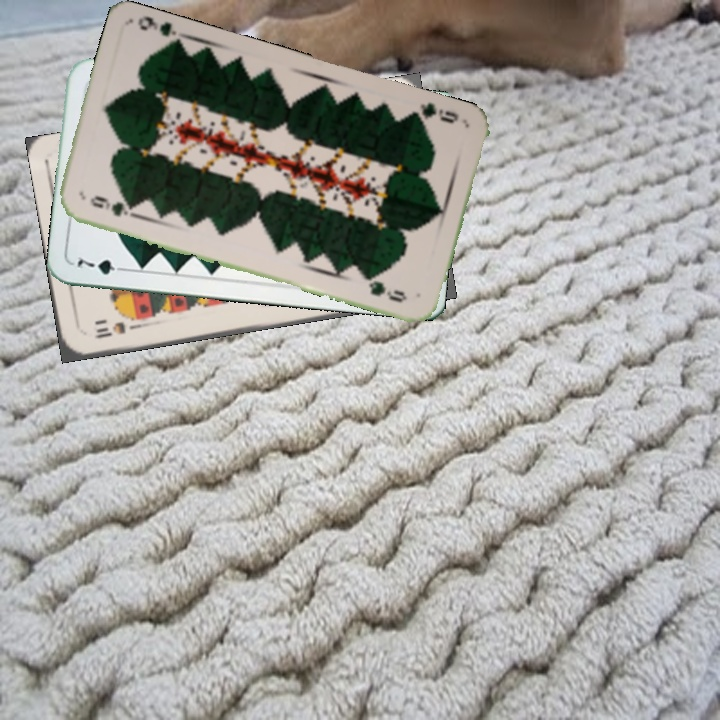G7: (73, 253, 130, 278)
G9: (407, 98, 461, 126), (86, 192, 138, 220)
S10: (91, 317, 141, 341)
